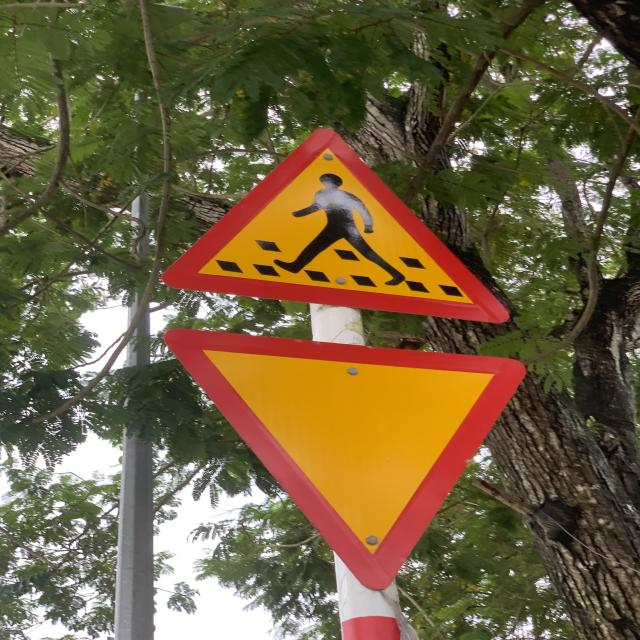Duong_Nguoi_Di_Bo_Sang_Ngang: (156, 120, 508, 330)
Gioi_Han_Toc_Do_25: (162, 325, 526, 589)
